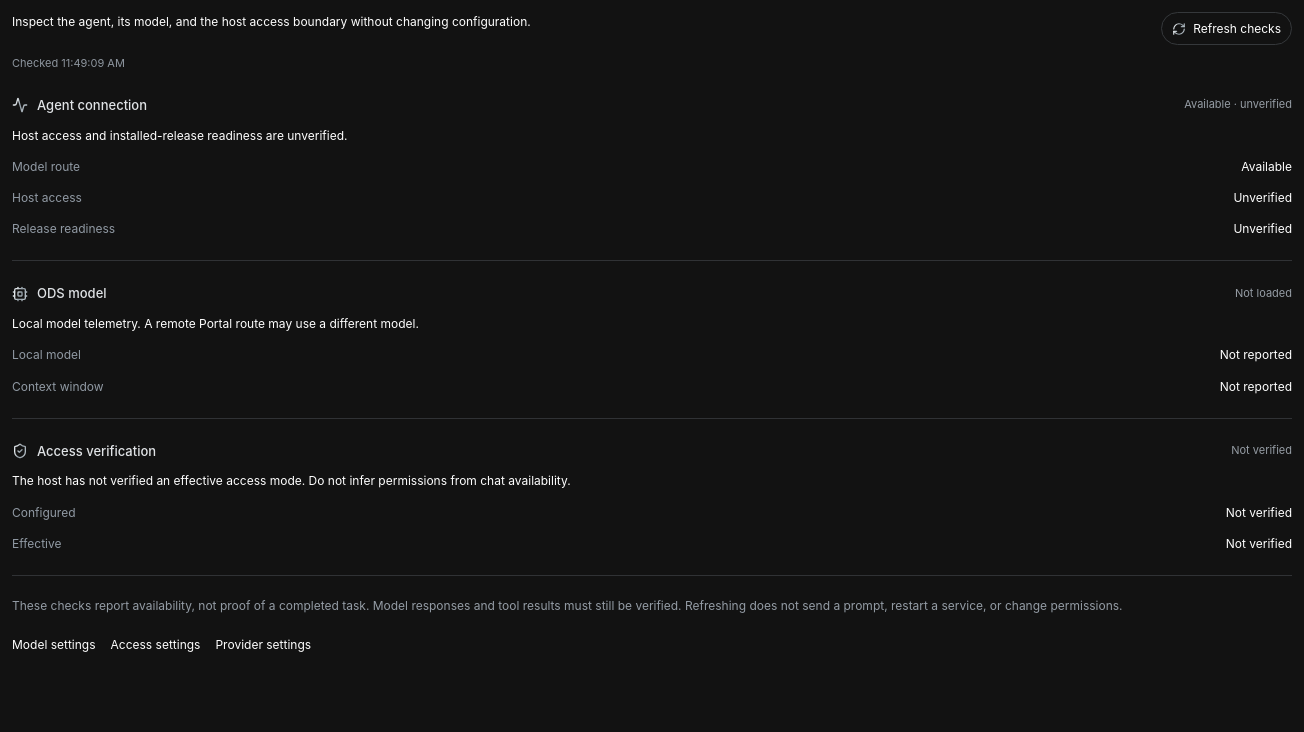
clears stale success on refresh and allows retry after errors
Expected: the text "Available · unverified" is shown, x1=1184 y1=96 x2=1292 y2=114
Click the button "Refresh checks": coordinates (1227, 29) x1=1161 y1=12 x2=1292 y2=45
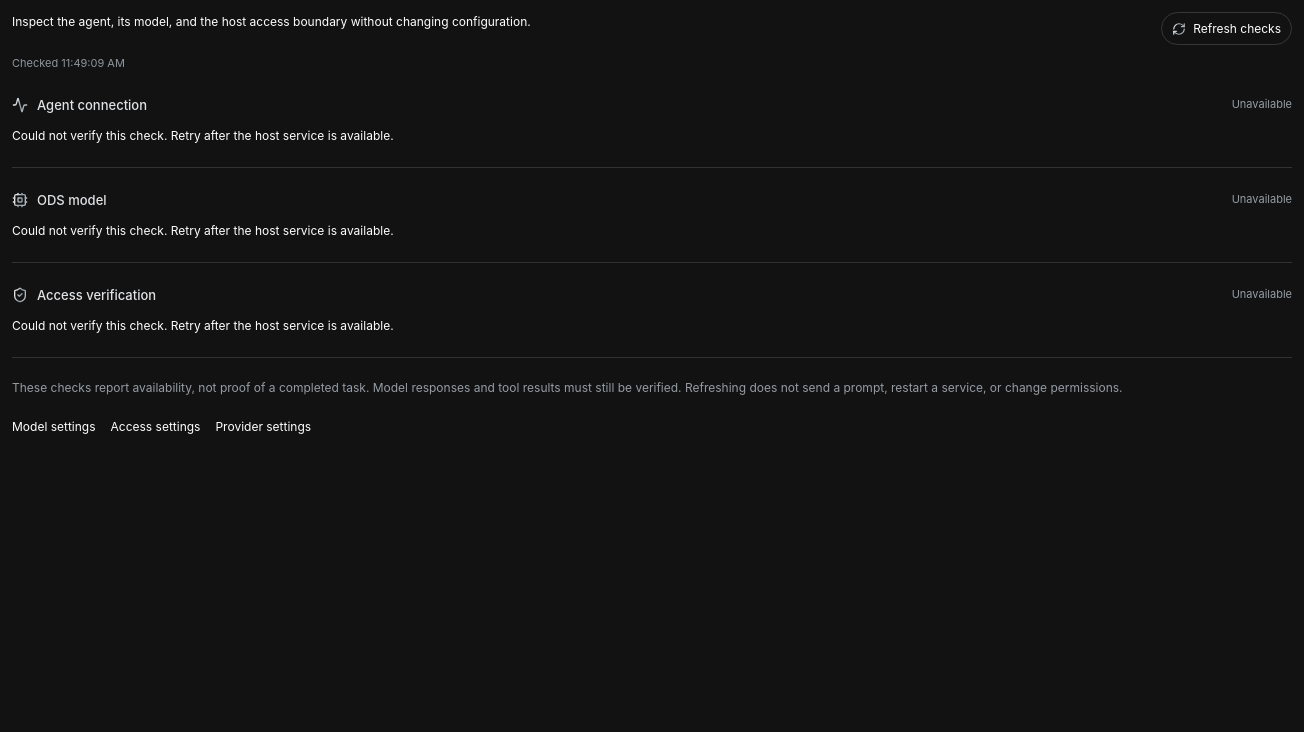
Expected: the text "Unavailable" is shown 3 times, x1=1232 y1=96 x2=1292 y2=114; x1=1232 y1=191 x2=1292 y2=209; x1=1232 y1=286 x2=1292 y2=304
Result: the text "Available · unverified" is gone
